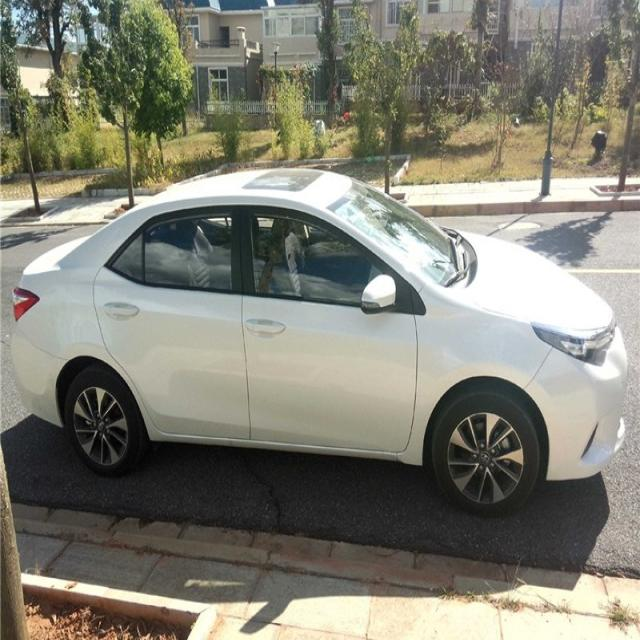back_right_side_light: (8, 273, 42, 329)
door: (97, 201, 256, 453)
front_bumper: (526, 332, 638, 486)
front_glass: (326, 173, 466, 290)
front_right_side_door: (236, 194, 421, 457)
front_right_side_light: (530, 313, 618, 369)
front_right_side_mirror: (360, 272, 401, 318)
wheel: (438, 388, 538, 515), (63, 364, 143, 470)
